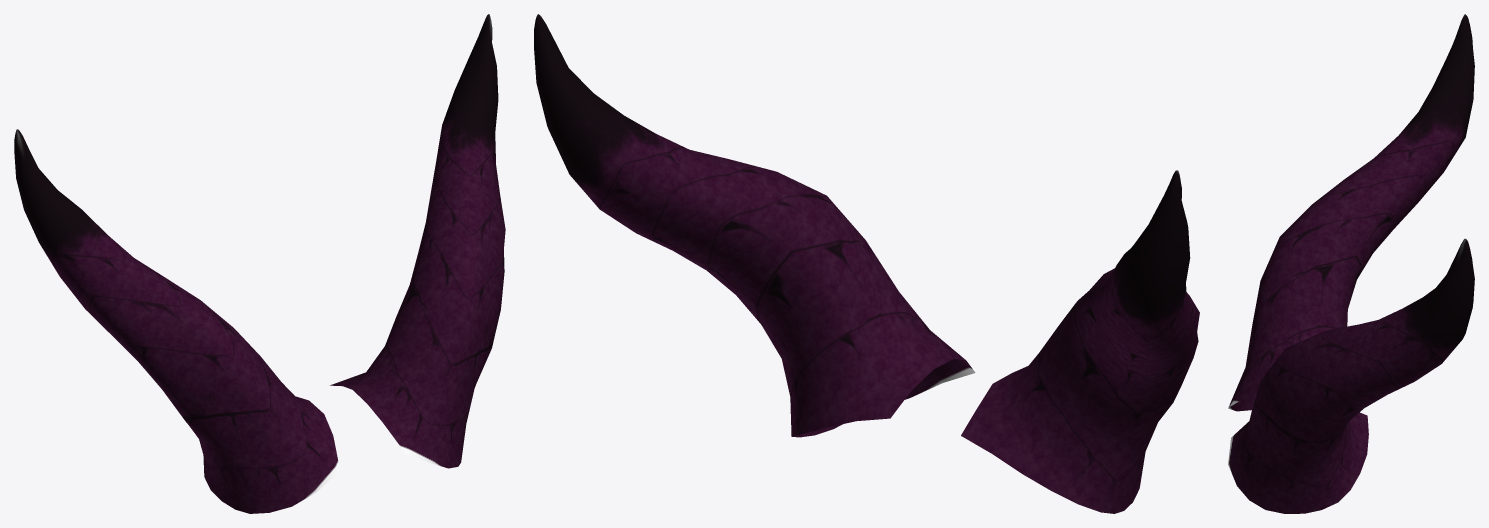
Rendered from Demon_Head.fbx.
3 views of the same model, side by side, from view 1: azimuth 30°, elevation 25°; view 2: azimuth 150°, elevation 25°; view 3: azimuth 270°, elevation 25° (orthographic). The views are drawn at different scales.
Visible parts, largest first — view 1: Demon_Horns_mesh; view 2: Demon_Horns_mesh; view 3: Demon_Horns_mesh.
Boxes of the visible parts, x1=… form: Demon_Horns_mesh: x1=14, y1=14, x2=505, y2=513; Demon_Horns_mesh: x1=534, y1=14, x2=1199, y2=513; Demon_Horns_mesh: x1=1228, y1=14, x2=1474, y2=513.
Bounding box in the file's own units: 27.57 × 18.98 × 12.67.
